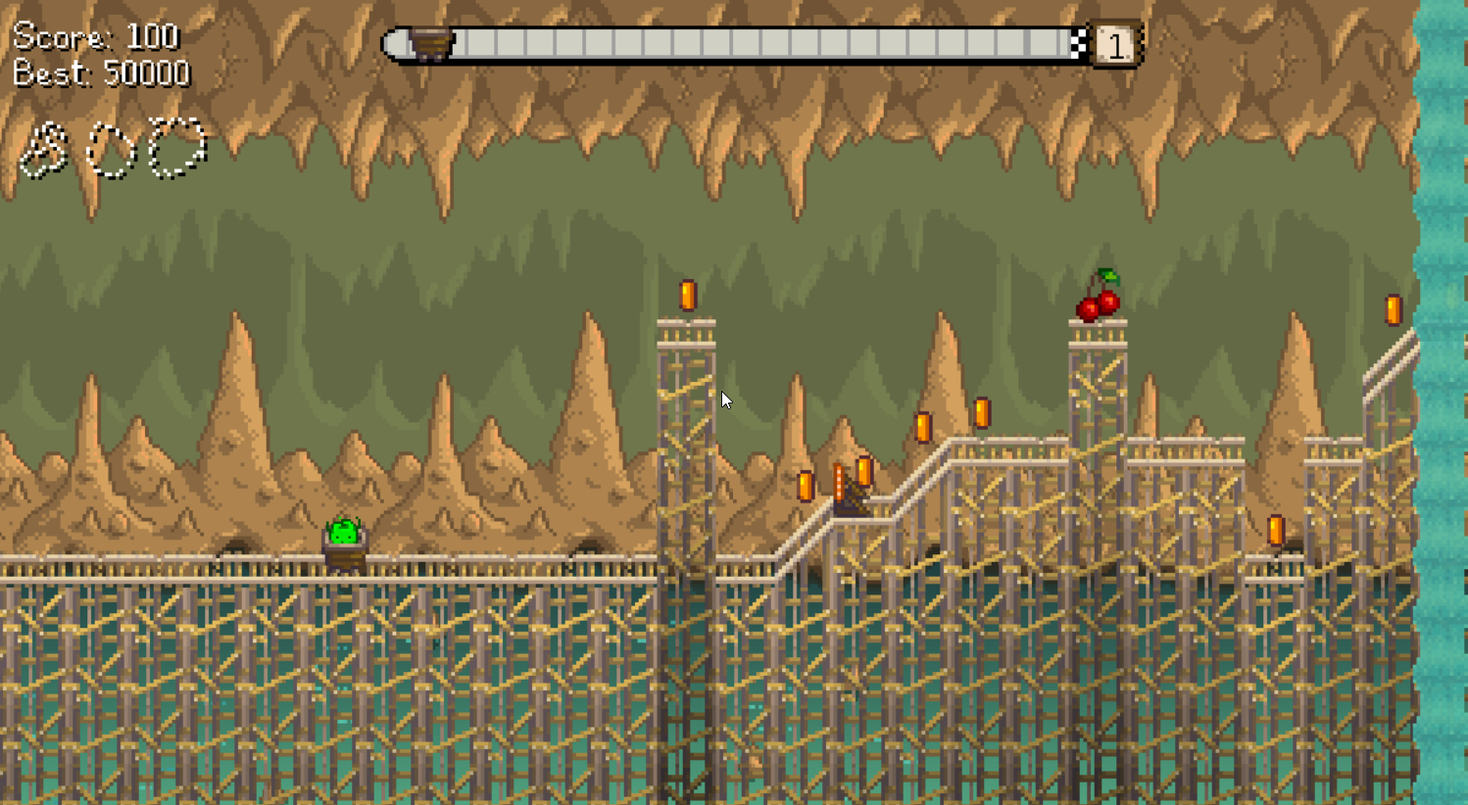barricade: (834, 465, 870, 516)
cherry: (1062, 257, 1132, 321)
coins: (913, 410, 933, 444), (679, 279, 697, 311), (973, 397, 991, 429), (1385, 293, 1403, 325), (856, 454, 873, 485), (1268, 514, 1285, 545), (798, 470, 813, 501)
minecart: (321, 516, 367, 572)
tracks: (708, 428, 1073, 591), (1, 552, 666, 586), (1362, 315, 1431, 411), (1121, 430, 1252, 471), (1234, 546, 1307, 589), (1303, 428, 1366, 473), (654, 313, 720, 351)
